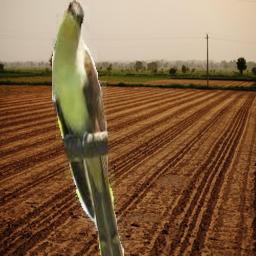Cuckoo: (52, 0, 124, 256)
